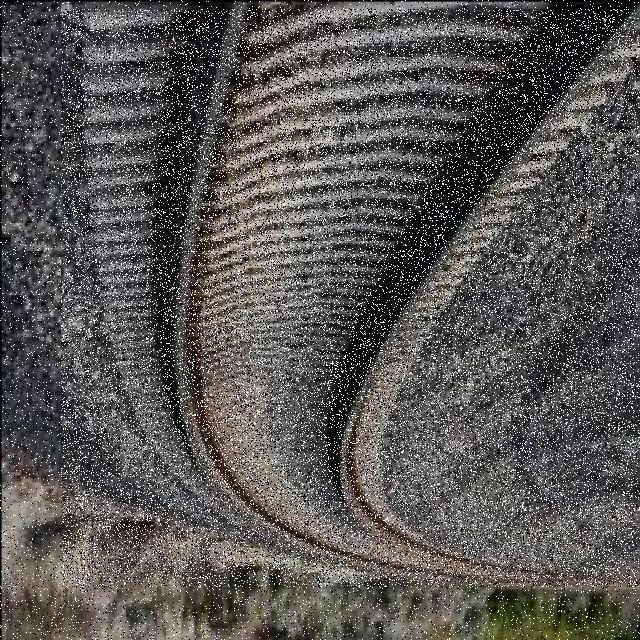rail: (61, 10, 639, 587)
